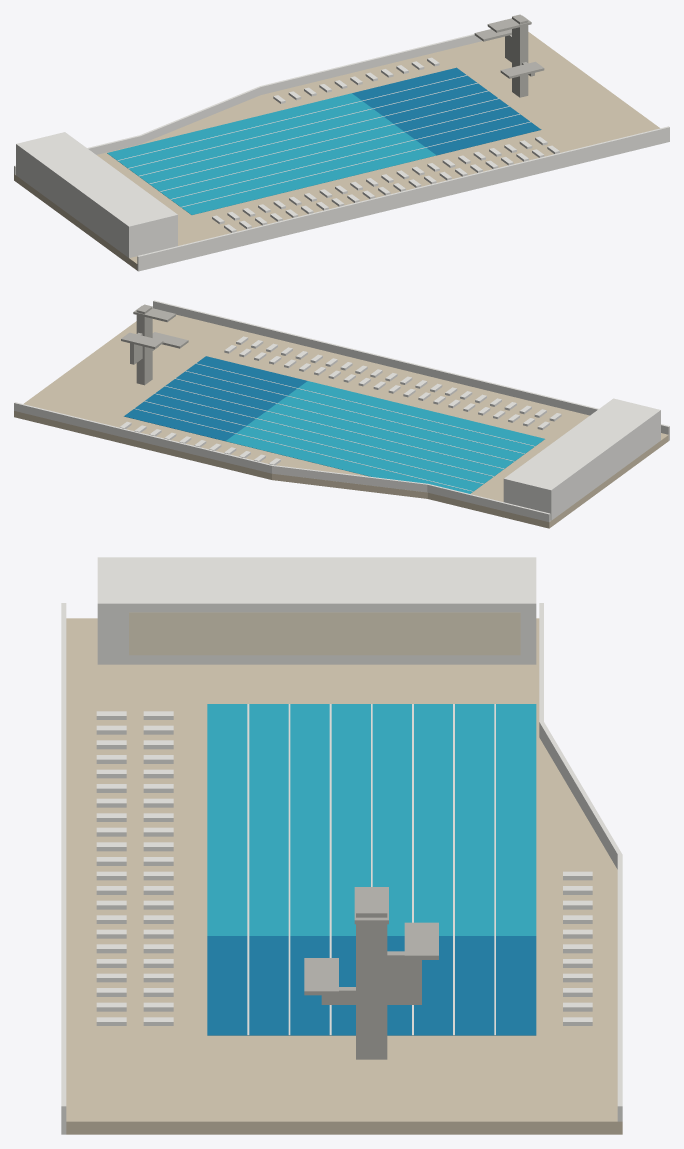
Rendered from mon_pool.glb.
3 views of the same model, one above another, from view 1: azimuth 30°, elevation 25°; view 2: azimuth 150°, elevation 25°; view 3: azimuth 270°, elevation 25° (orthographic). The views are drawn at different scales.
Visible parts, largest first — view 1: monaco-stade-nautique; view 2: monaco-stade-nautique; view 3: monaco-stade-nautique.
Part boxes in pixels (x1,y1,x2,y2): monaco-stade-nautique: (14, 14, 669, 271); monaco-stade-nautique: (14, 300, 669, 528); monaco-stade-nautique: (61, 557, 622, 1134).
Bounding box in the file's own units: 76 × 11.2 × 35.8.
